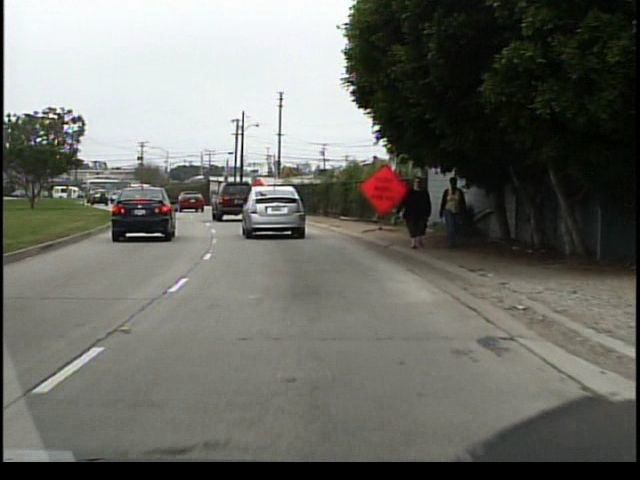person: (393, 173, 433, 255), (435, 175, 467, 251)
